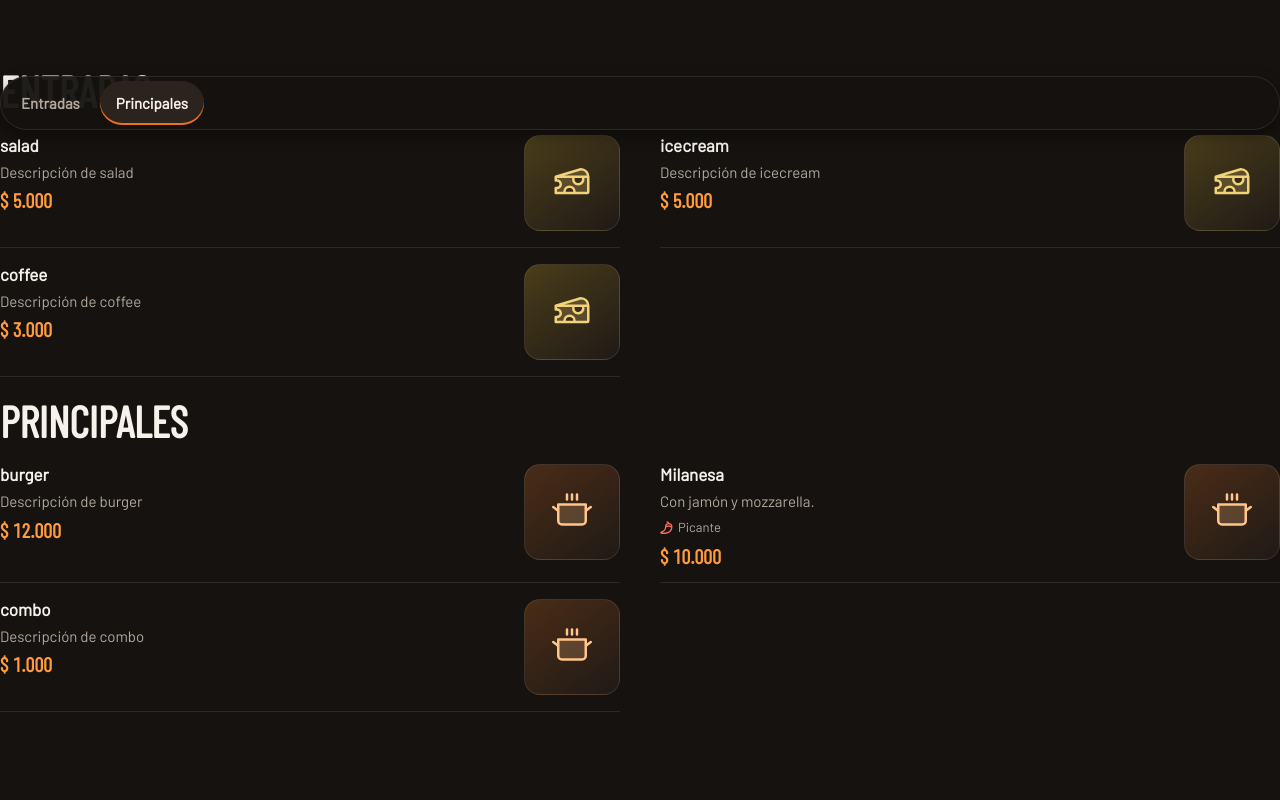
Test: DishSheet: ficha del plato (RF2, RF6, RF14-RF20, RF34, RF43) › grupo obligatorio y "Agregar" (RF16, CL7) › al elegir la opción se habilita y la descripción desaparece
(page scrolled)
Check: the navigation bar is shown, box [0, 76, 1279, 130]
Step 1. Click the button "burger Descripción de burger $ 12.000" → (24, 474), box [0, 448, 620, 576]
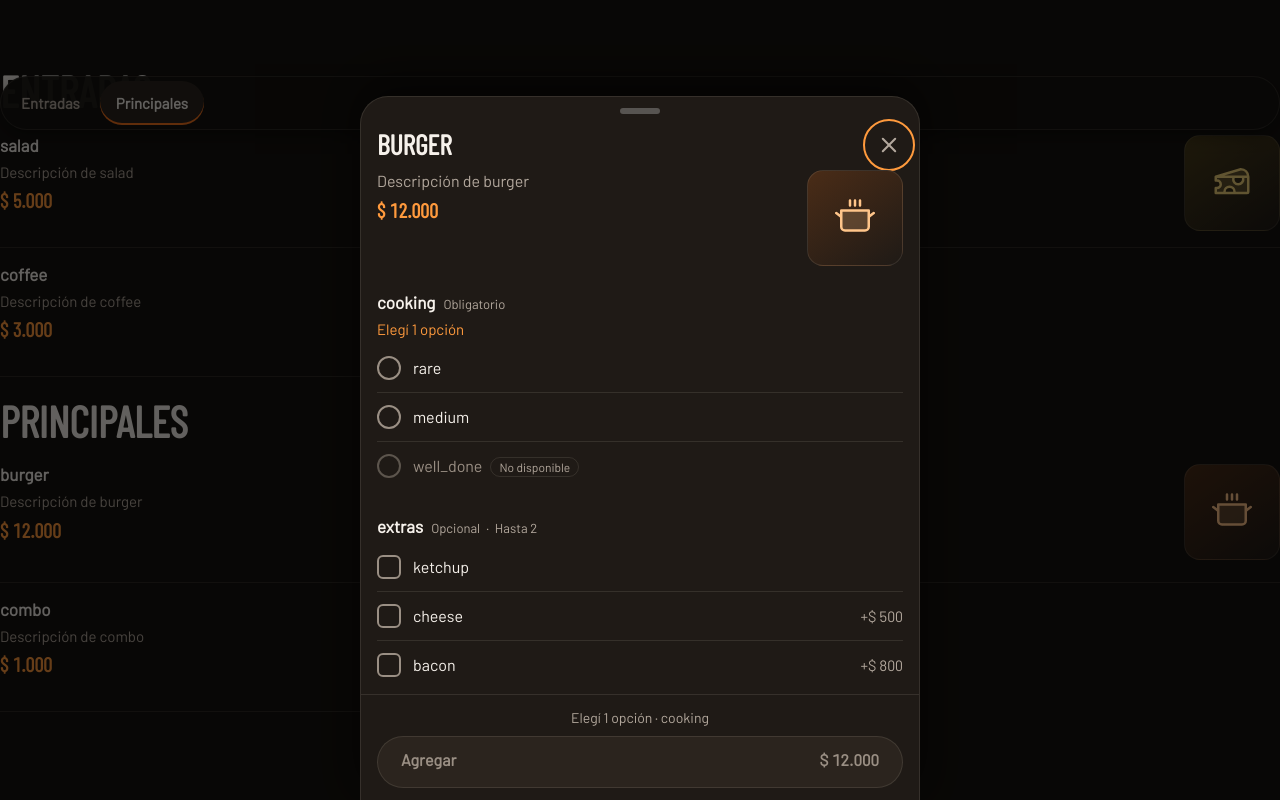
Step 2. Click the radio button labelled "rare" → (389, 368), box [377, 356, 441, 380]
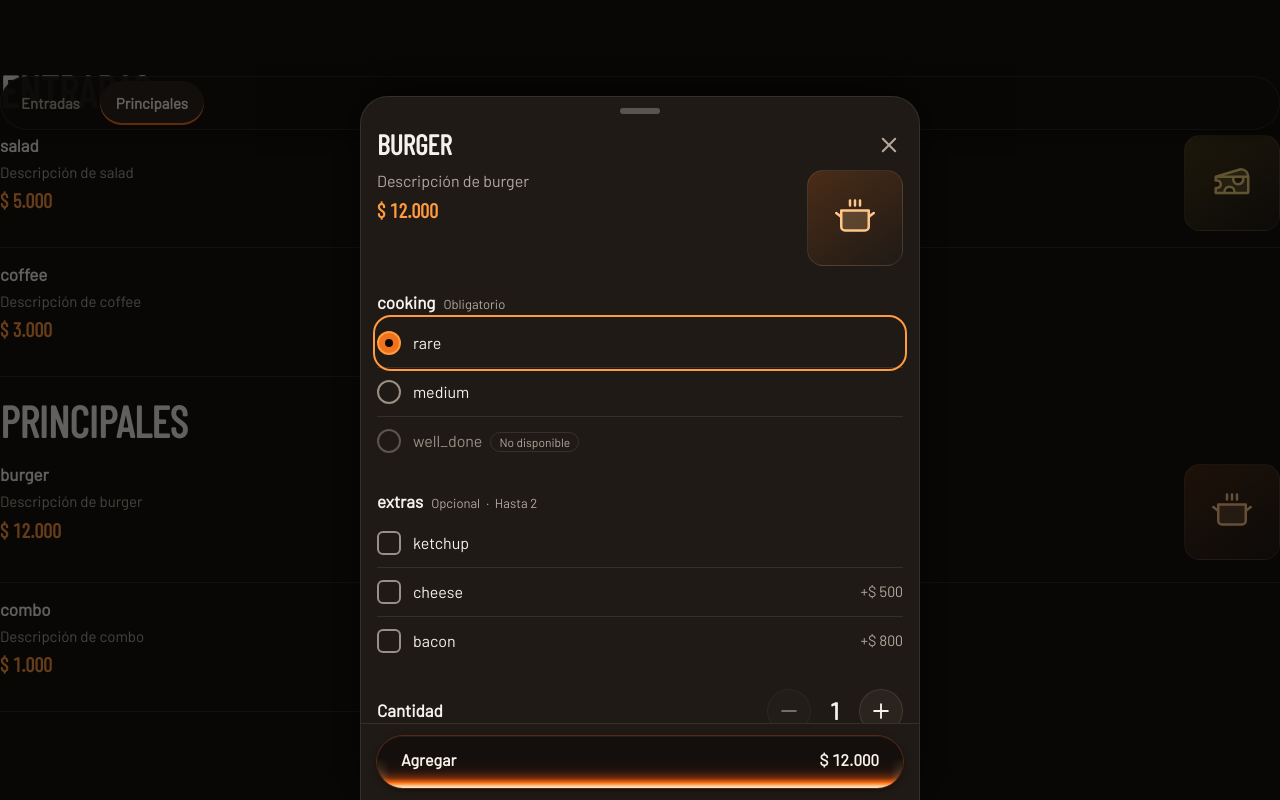
Check: the button "Agregar $ 12.000" is enabled, box [377, 736, 903, 788]
